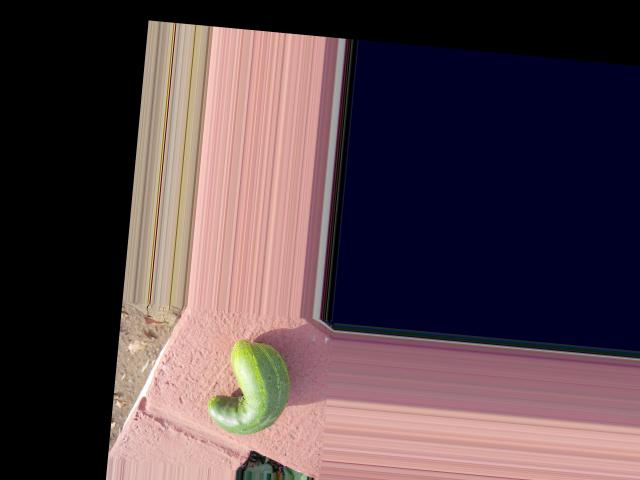cucumber: (204, 337, 293, 438)
